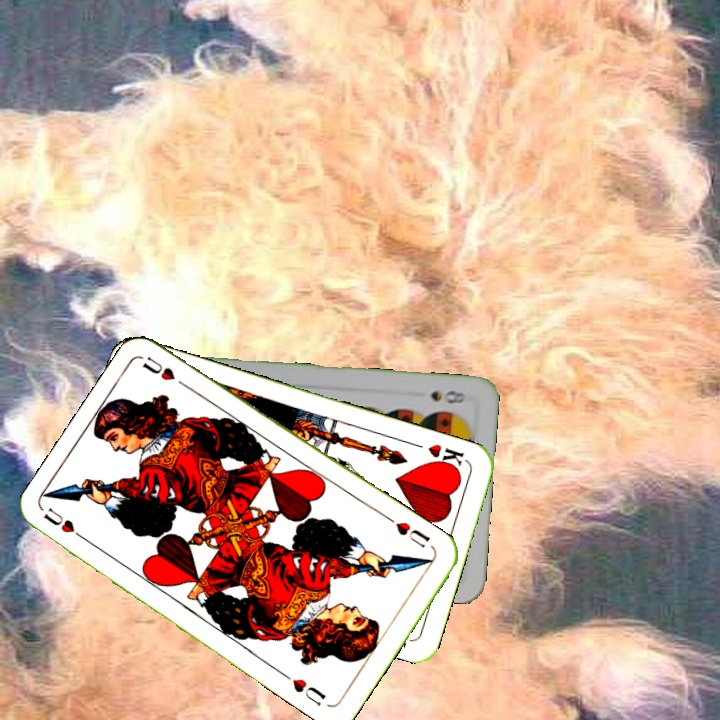HK: (424, 440, 469, 473)
HU: (39, 503, 92, 546), (384, 513, 433, 551)
S8: (427, 386, 469, 407)
